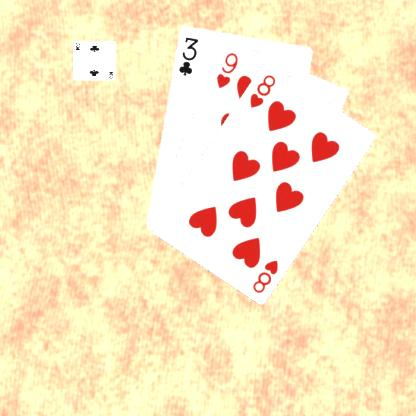3C: (175, 34, 200, 77)
8H: (247, 71, 277, 109), (250, 257, 279, 294)
9H: (214, 49, 240, 90)
